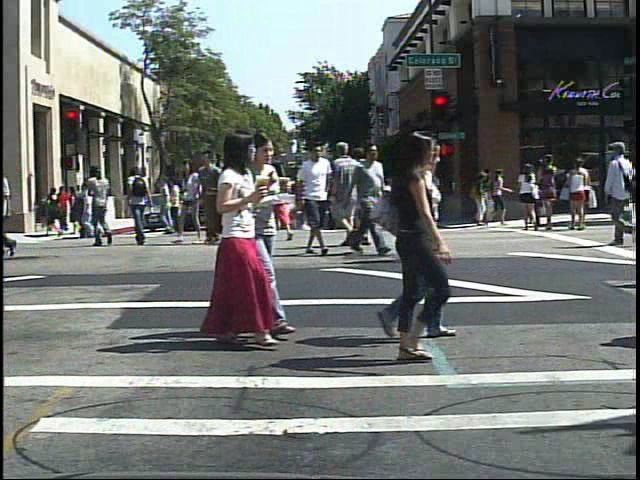person: (352, 129, 483, 365), (374, 133, 467, 344), (202, 128, 287, 350), (247, 130, 285, 341), (393, 134, 449, 263), (370, 136, 416, 261), (295, 135, 335, 261), (330, 138, 371, 248), (602, 132, 635, 250), (354, 143, 387, 250), (232, 146, 267, 246), (263, 149, 294, 247), (83, 164, 115, 247), (127, 164, 156, 247), (516, 159, 544, 234), (291, 163, 312, 232), (57, 183, 77, 233)
